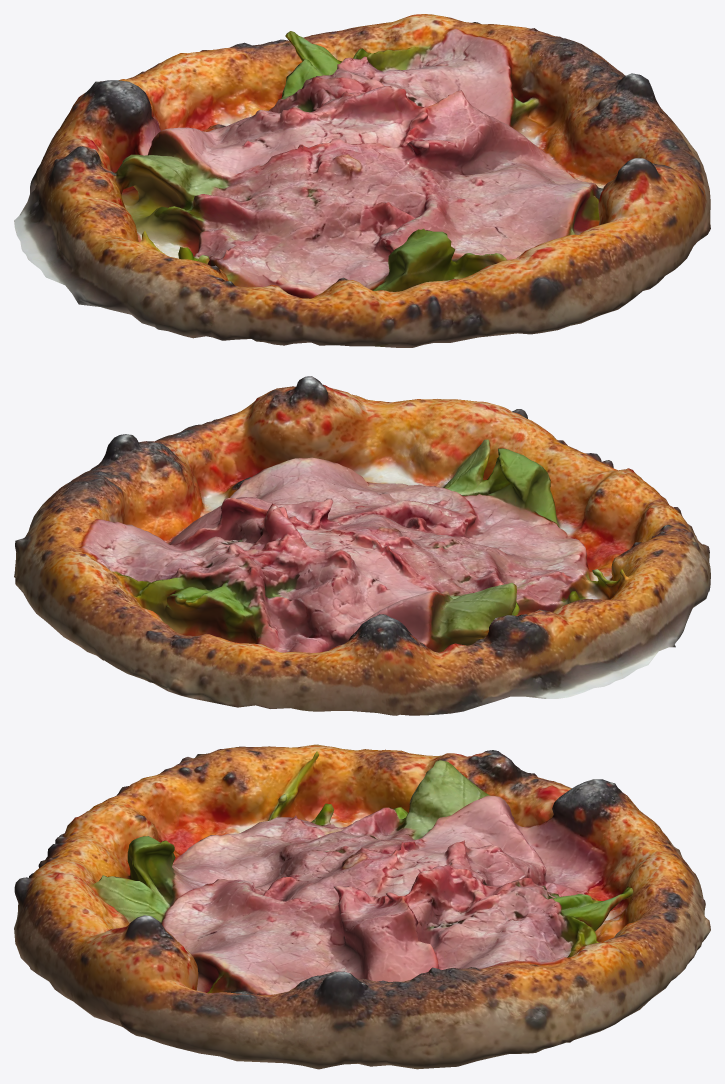
Rendered from roastbeef.glb.
The picture shows the model from 3 angles, top to bottom: view 1: azimuth 30°, elevation 25°; view 2: azimuth 150°, elevation 25°; view 3: azimuth 270°, elevation 25°; orthographic projection. The views are drawn at different scales.
Size of the model in its own units: 0.9251 by 0.154 by 0.9207.
1 material, 1 textured.
